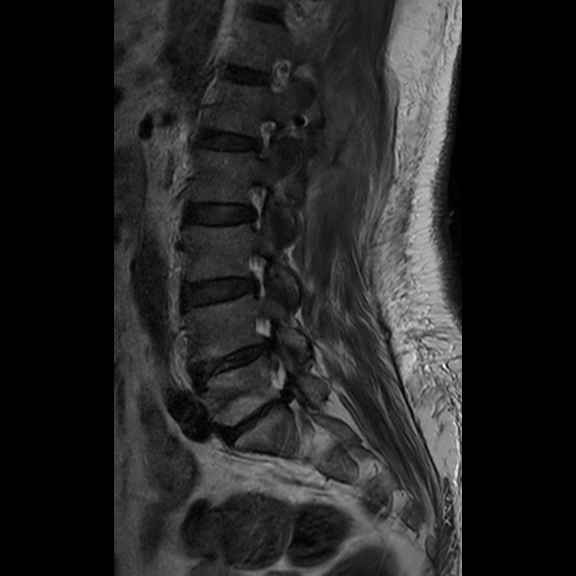LFS0: (238, 242, 277, 304), (236, 176, 274, 236), (245, 112, 280, 166)
